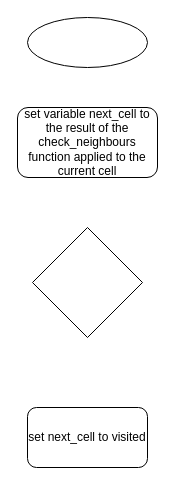
Image size: 175x485. Some labels were removed from this diagram. Here are the shapes that lost their labels. From the top down, the centre of each, then its label:
At (87,42): "start".
At (87,282): "is next_cell value that has just been assigned true?".
